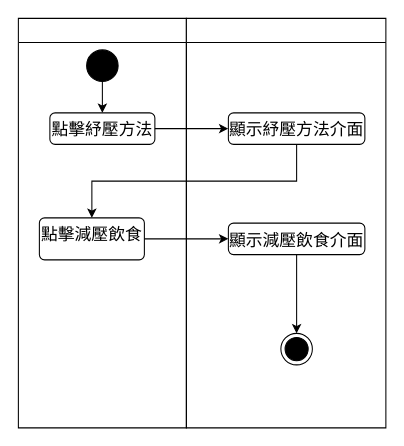
This 404x446 diagram has some shape labels left out. The box of each missing label's shape, as (x1, y1, x2, y2) in pixels:
使用者: (17, 17, 186, 428)
系統: (185, 17, 386, 428)
